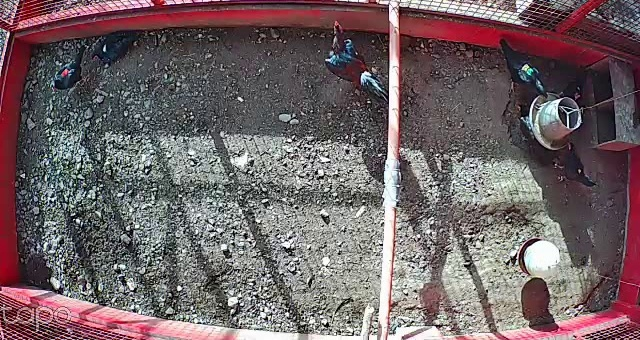Chicken: (496, 33, 551, 100), (546, 139, 600, 191), (54, 43, 90, 92), (93, 31, 139, 66)
Rooster: (317, 15, 387, 102)
Saddle_Color_Red: (60, 67, 69, 77)
Saddle_Color_White: (102, 43, 106, 52)
Saddle_Color_YellowGreen: (522, 64, 534, 77)
